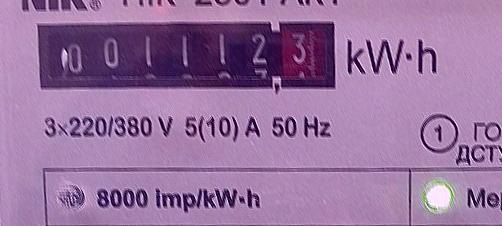0: (100, 33, 123, 71), (64, 39, 86, 74)
1: (139, 31, 158, 69), (177, 31, 192, 69), (215, 29, 230, 67)
2: (248, 30, 271, 67)
3: (289, 30, 308, 66)
screen: (29, 11, 344, 99)
